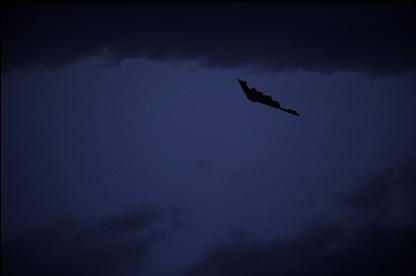B1: (237, 78, 299, 115)
